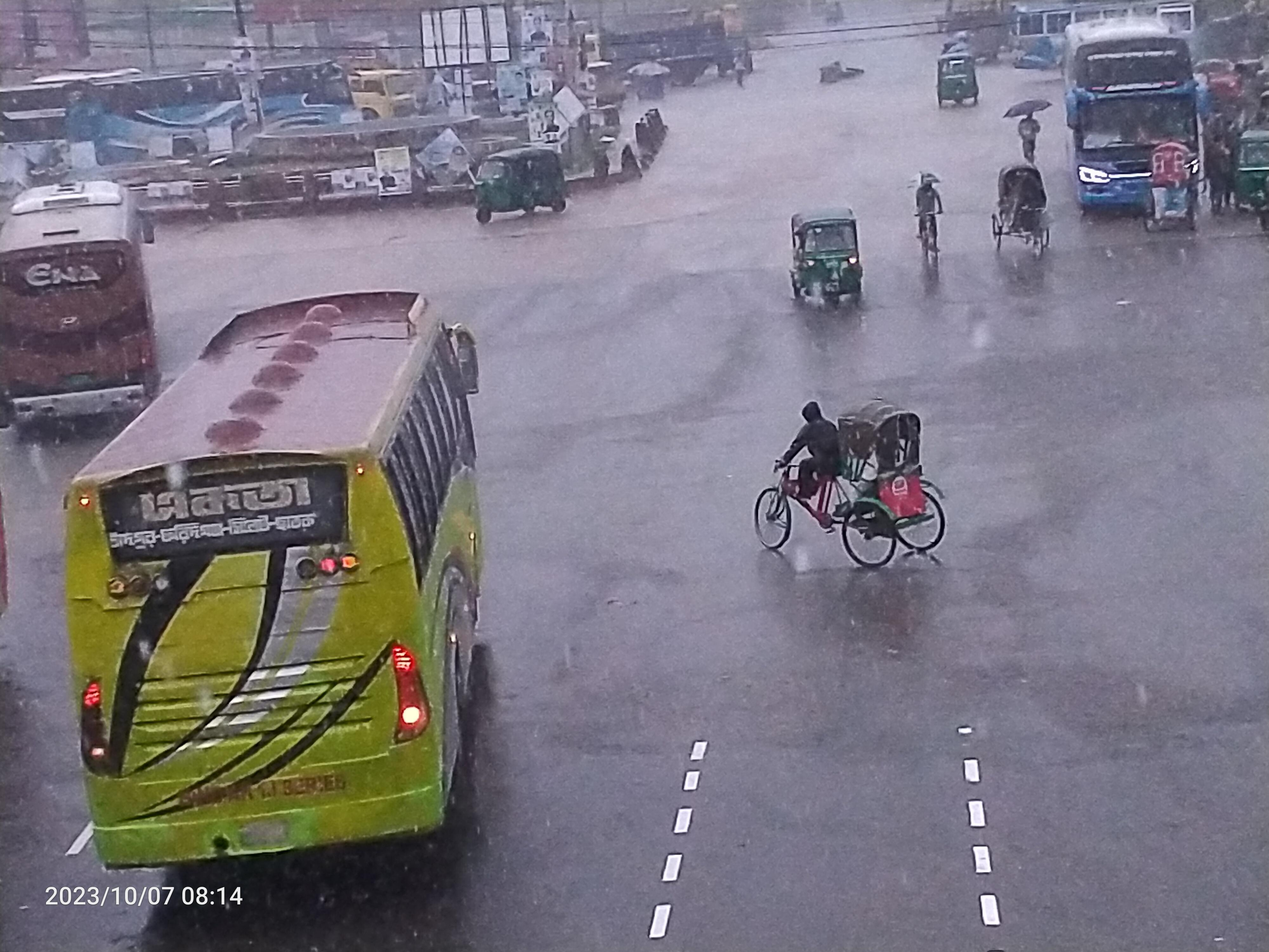Bike: (905, 164, 967, 279)
Bus: (12, 287, 539, 879), (0, 175, 175, 432), (1049, 0, 1227, 234), (47, 71, 365, 180)
Car: (730, 380, 980, 583), (974, 155, 1068, 273), (1139, 134, 1213, 248)
Truck: (600, 1, 755, 102), (340, 41, 428, 133)
